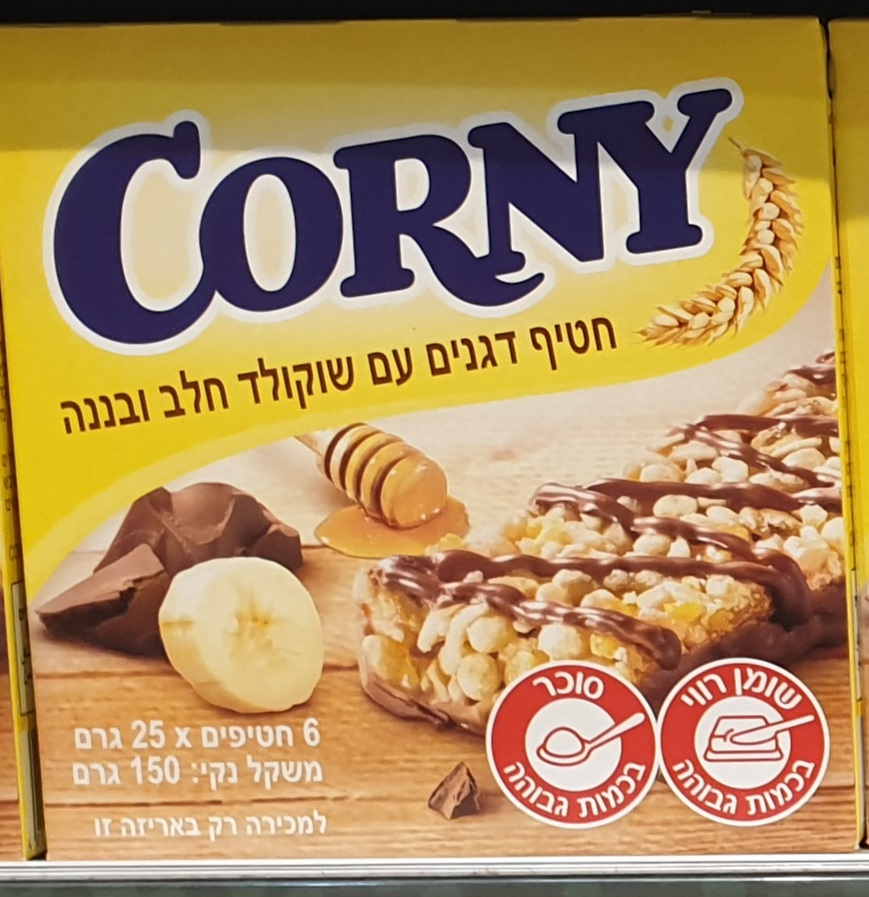fat: (654, 654, 833, 826)
sugar: (483, 655, 661, 828)
